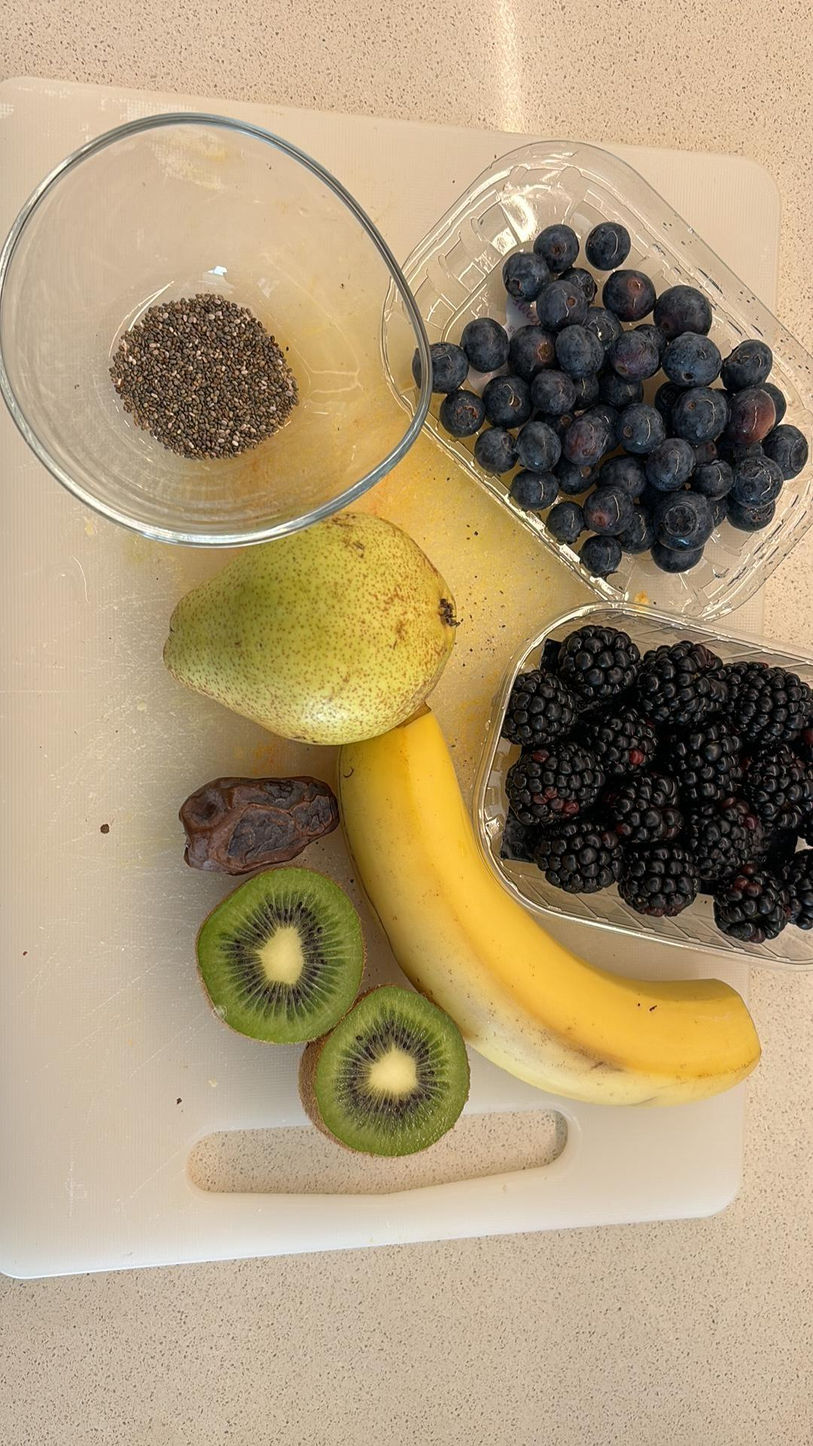banana: (335, 712, 765, 1110)
blackberry: (506, 740, 609, 827), (638, 642, 734, 730), (727, 650, 813, 746), (556, 619, 644, 705), (661, 711, 746, 800), (535, 813, 625, 893), (679, 802, 774, 875), (495, 665, 581, 744), (743, 740, 813, 837), (583, 702, 665, 782), (606, 772, 686, 854), (718, 871, 791, 951), (619, 847, 700, 917), (775, 850, 813, 936)
blueberry: (655, 281, 711, 342), (666, 331, 722, 389), (412, 343, 469, 394), (613, 331, 665, 384), (658, 495, 710, 548), (647, 435, 695, 492), (516, 425, 564, 480), (726, 335, 768, 391), (677, 387, 723, 438), (557, 326, 602, 378), (509, 324, 554, 376), (463, 316, 508, 368), (734, 391, 776, 446), (607, 269, 651, 321), (568, 413, 610, 467), (531, 221, 578, 269), (738, 458, 784, 507), (618, 402, 663, 452), (588, 217, 630, 270), (767, 425, 808, 479), (503, 251, 550, 297), (578, 538, 626, 583), (530, 370, 576, 416), (586, 485, 630, 532), (439, 392, 483, 438), (540, 282, 583, 329), (597, 457, 646, 498), (481, 378, 525, 422), (651, 543, 711, 575), (472, 428, 515, 472), (515, 472, 556, 513), (547, 503, 589, 543), (623, 507, 655, 558), (692, 460, 727, 498), (732, 502, 774, 532), (566, 268, 597, 303)
kiwi: (290, 987, 475, 1168), (197, 859, 368, 1046)
pear: (162, 501, 459, 749)
